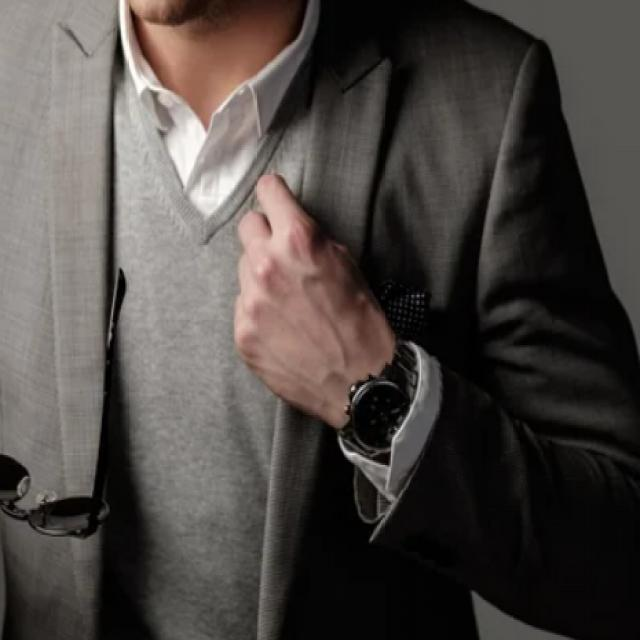Watch: (340, 338, 419, 470)
